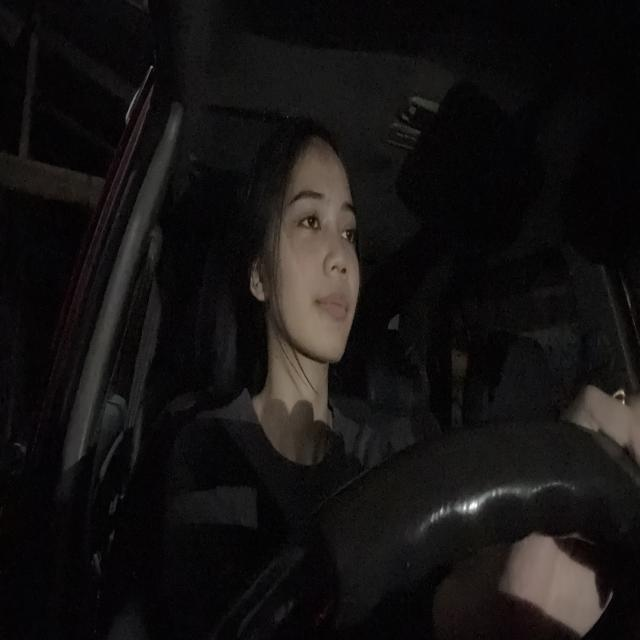open: (286, 185, 324, 248), (335, 198, 356, 255)
